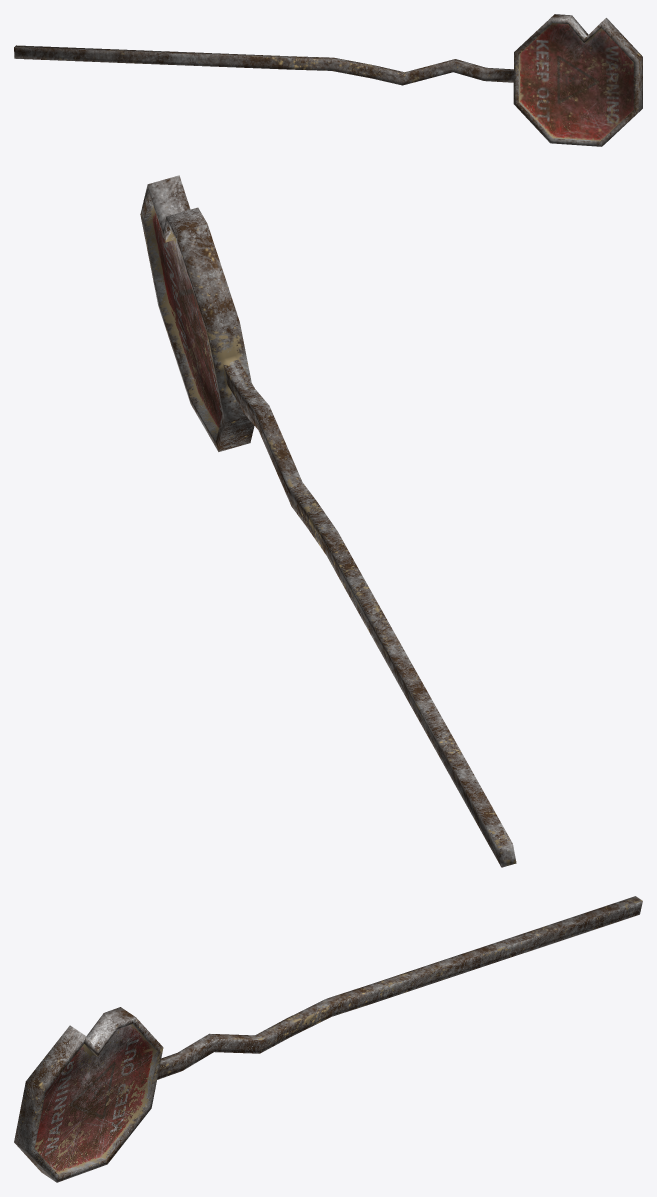
The model's file is Anim_idle_senyal_objetos.0028.obj.
3 views of the same model, one above another, from view 1: azimuth 30°, elevation 25°; view 2: azimuth 150°, elevation 25°; view 3: azimuth 270°, elevation 25° (orthographic). The views are drawn at different scales.
Size of the model in its own units: 9.11 by 2.56 by 9.05.
